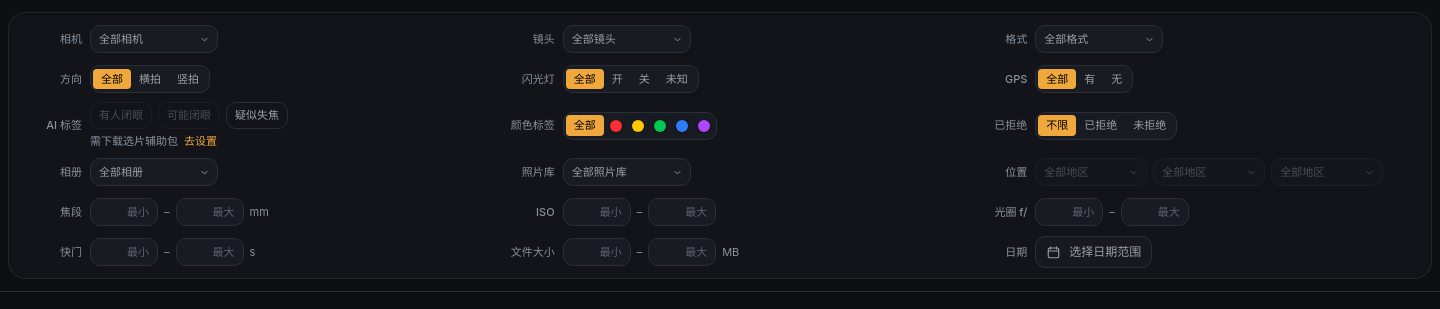
筛选面板：所属相册维度 › 无相册 → 下拉空态文案
Step 1. Click the button with test id "search-album-button" → (154, 172), box [91, 159, 217, 185]
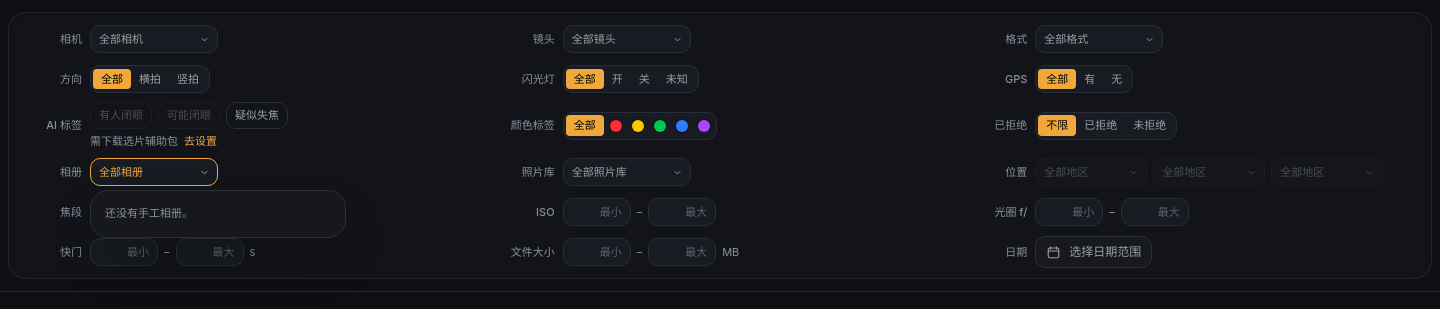
Expected: the element with test id "search-album-menu" shows "还没有手工相册", [105, 206, 193, 220]
